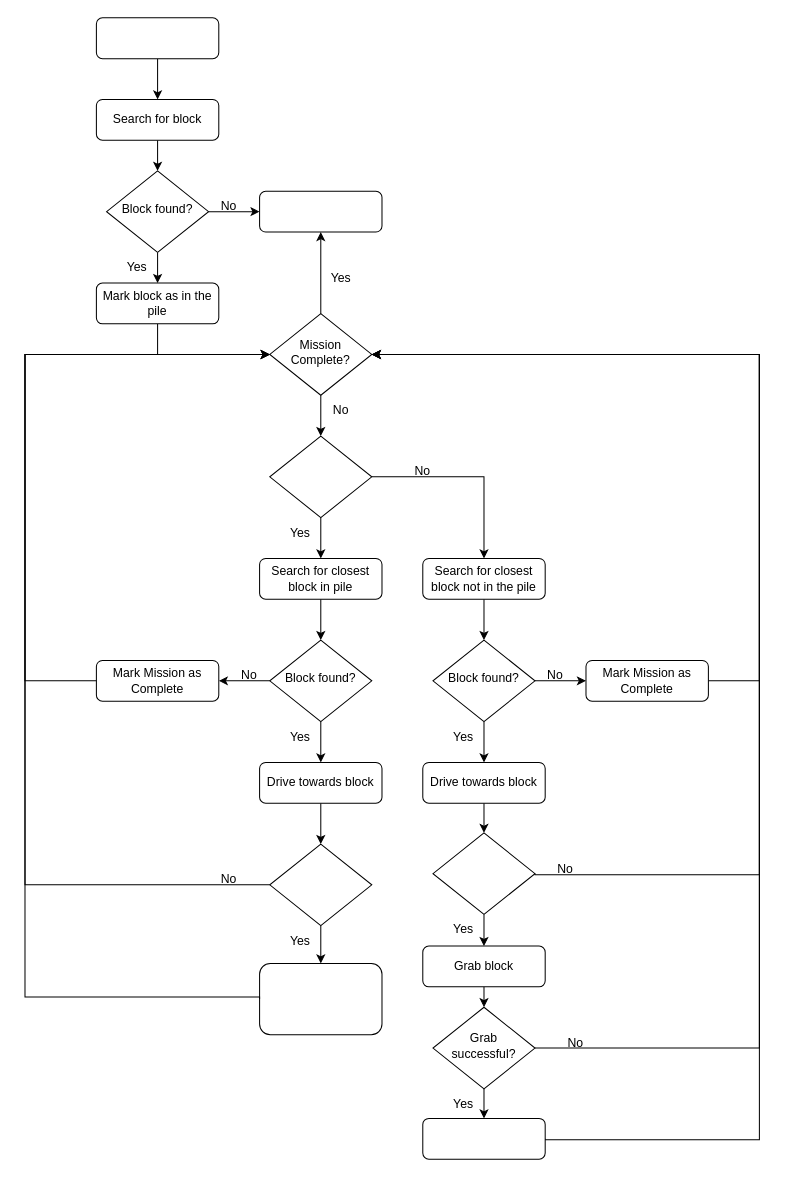
Some shapes in this 785 by 1177 pixel diagram are drawn without their labels. Each missing label, with the centre of its shape:
"Block within dropping distance?" belongs at pixel 320 884.
"Block within grabbing distance" belongs at pixel 483 873.
"Drop block Mark block as in the pile Drive backwards" belongs at pixel 320 998.
"end" belongs at pixel 320 211.
"Holding block?" belongs at pixel 320 476.
"Set holding block to true" belongs at pixel 483 1138.
"start" belongs at pixel 157 38.
